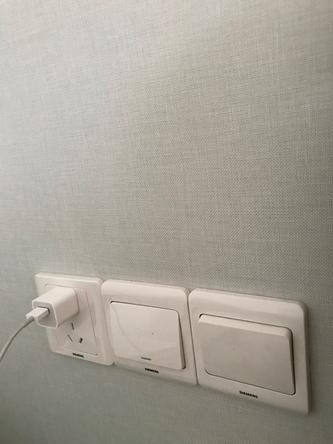switch: (198, 313, 298, 392), (110, 297, 191, 371)
